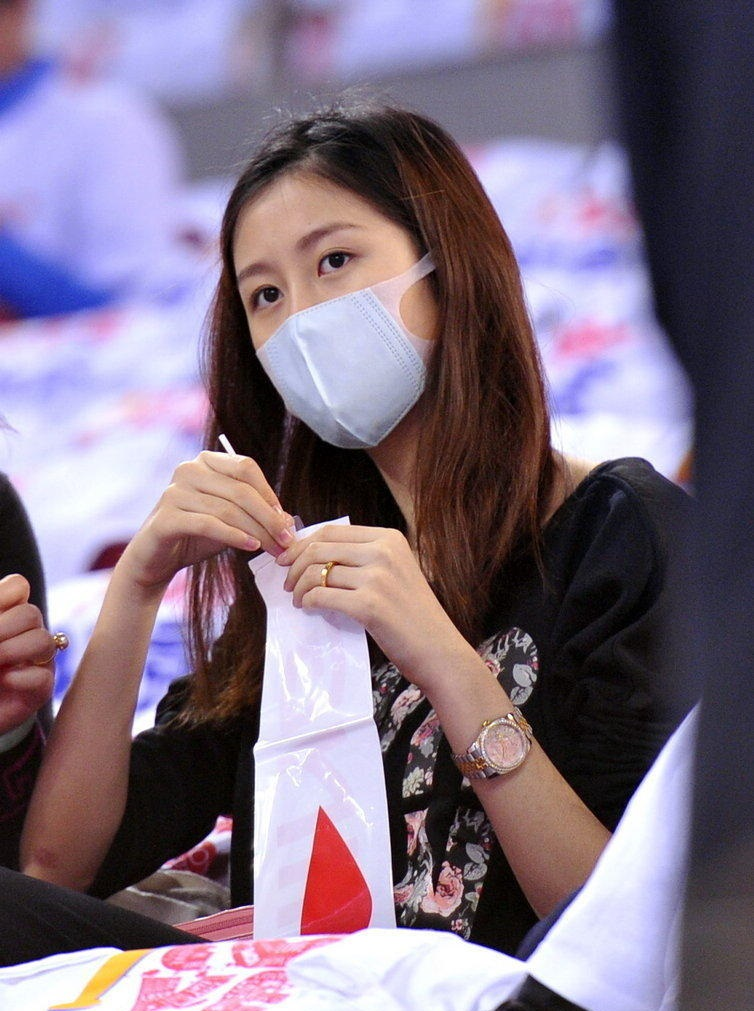face_mask: (231, 161, 424, 456)
